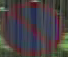No Stopping: (4, 1, 58, 48)
